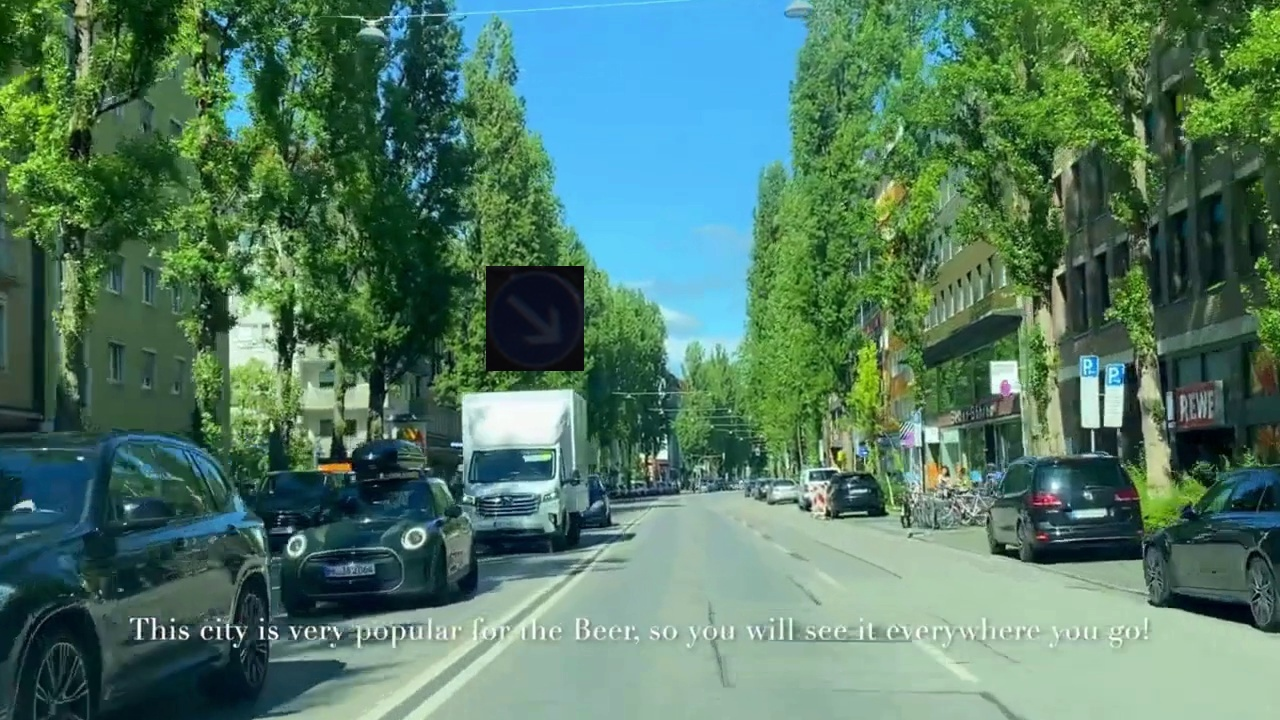Keep right: (486, 266, 584, 371)
